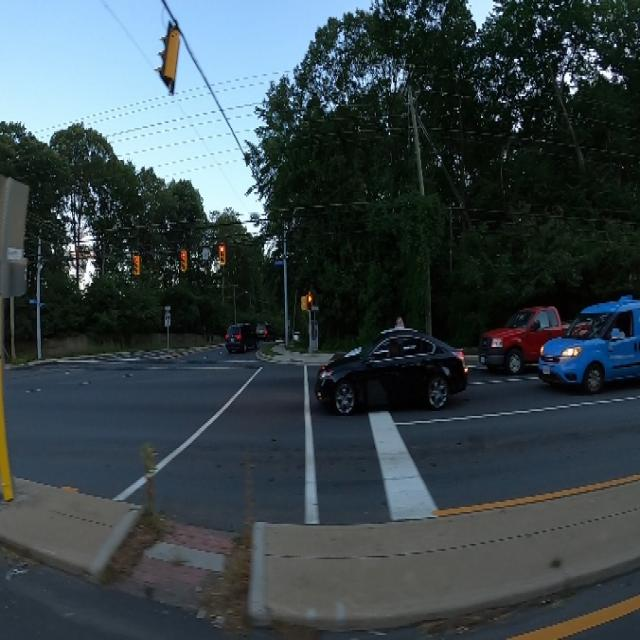car: (310, 325, 475, 421), (217, 315, 257, 357)
